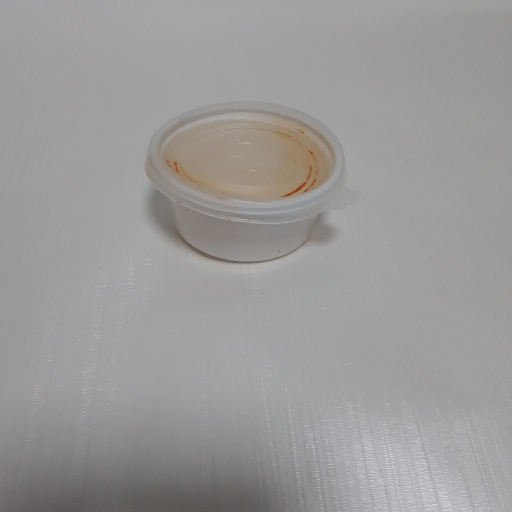Plastic_5: (141, 99, 363, 267)
